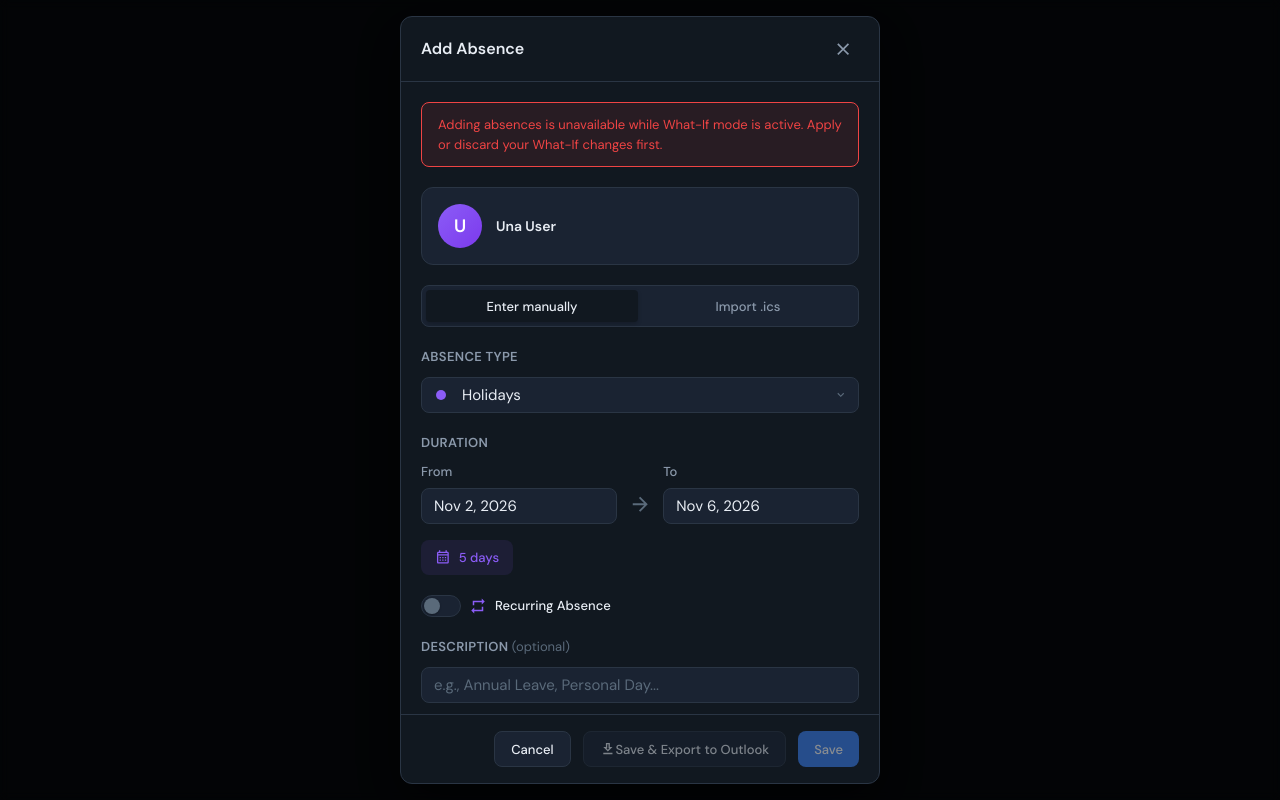
VacationModal › blocks the import while What-If mode is active
Click the tab "Import .ics" at (748, 306), box [642,290,854,322]
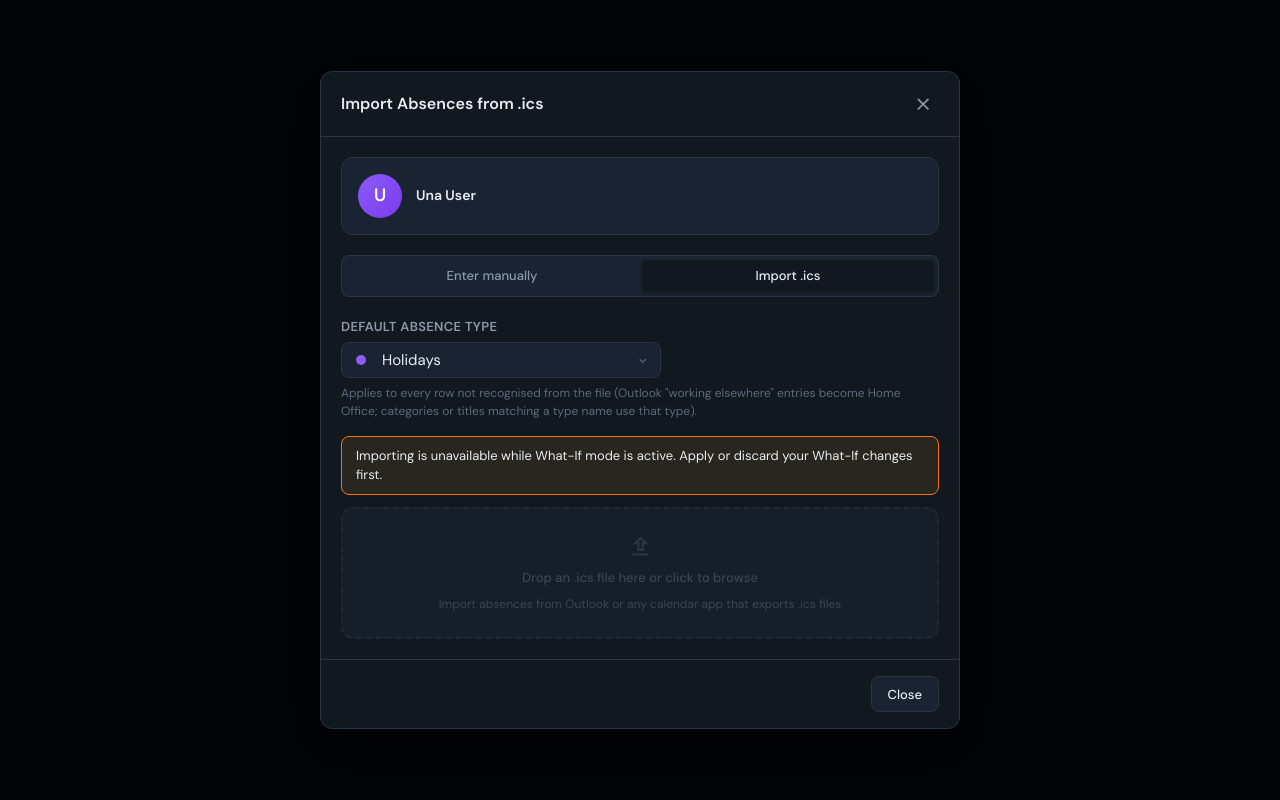
Expected: the text "What-If" is shown, [356,447,912,482]
